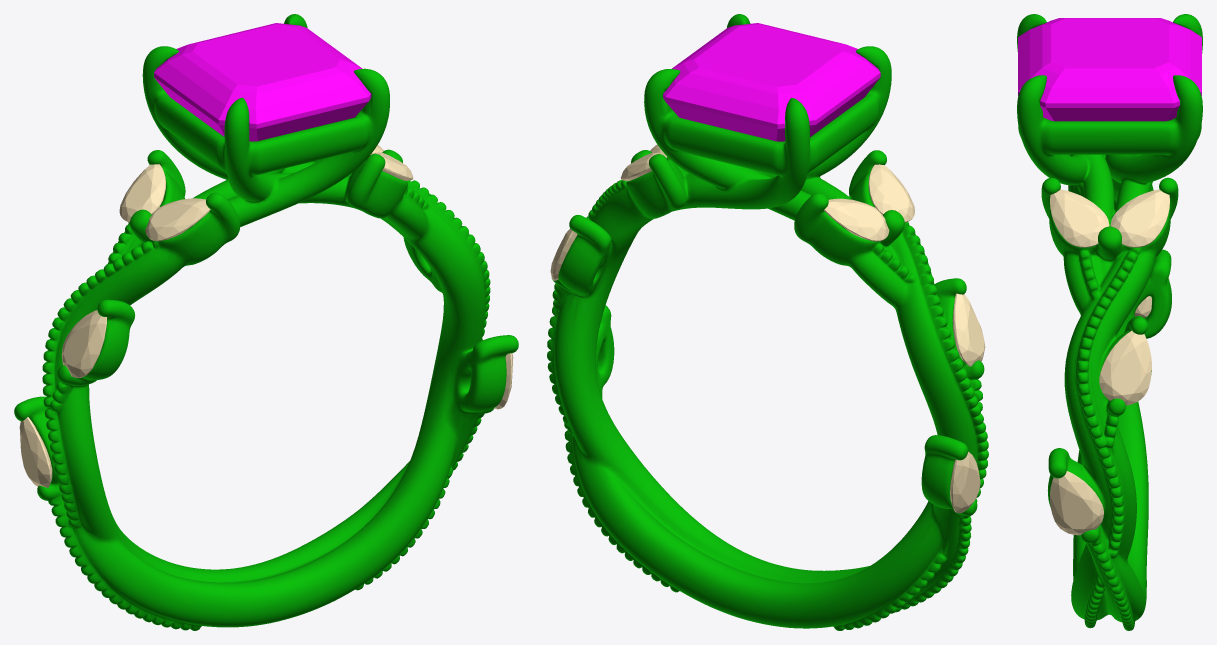
Rendered from BE1D3588_AS_200ct_RENDER.glb.
3 renders of one model, left to right at view 1: azimuth 30°, elevation 25°; view 2: azimuth 150°, elevation 25°; view 3: azimuth 270°, elevation 25°, orthographic.
Visible parts, largest first — view 1: Metal 01, CS_Diamond_Asscher, Diamond_Pear_Gem_SH.007, Diamond_Pear_Gem_SH.005, Diamond_Pear_Gem_SH.006, Diamond_Pear_Gem_SH.004; view 2: Metal 01, CS_Diamond_Asscher, Diamond_Pear_Gem_SH.006, Diamond_Pear_Gem_SH.005, Diamond_Pear_Gem_SH.007, Diamond_Pear_Gem_SH.004; view 3: Metal 01, CS_Diamond_Asscher, Diamond_Pear_Gem_SH, Diamond_Pear_Gem_SH.003, Diamond_Pear_Gem_SH.002, Diamond_Pear_Gem_SH.001.
Part boxes in pixels (box(x1,y1,x2,y2)): Metal 01: box(14, 14, 518, 630); CS_Diamond_Asscher: box(154, 23, 371, 141); Diamond_Pear_Gem_SH.007: box(61, 310, 106, 377); Diamond_Pear_Gem_SH.005: box(145, 198, 210, 241); Diamond_Pear_Gem_SH.006: box(119, 164, 165, 222); Diamond_Pear_Gem_SH.004: box(19, 417, 52, 487); Metal 01: box(547, 14, 988, 630); CS_Diamond_Asscher: box(663, 23, 880, 141); Diamond_Pear_Gem_SH.006: box(824, 198, 889, 241); Diamond_Pear_Gem_SH.005: box(868, 164, 914, 222); Diamond_Pear_Gem_SH.007: box(952, 293, 985, 366); Diamond_Pear_Gem_SH.004: box(950, 452, 980, 513); Metal 01: box(1017, 14, 1202, 630); CS_Diamond_Asscher: box(1018, 18, 1201, 121); Diamond_Pear_Gem_SH: box(1099, 330, 1151, 405); Diamond_Pear_Gem_SH.003: box(1050, 471, 1103, 535); Diamond_Pear_Gem_SH.002: box(1110, 189, 1169, 247); Diamond_Pear_Gem_SH.001: box(1050, 189, 1109, 247).
Bounding box in the file's own units: 20.98 × 24.9 × 7.58.
